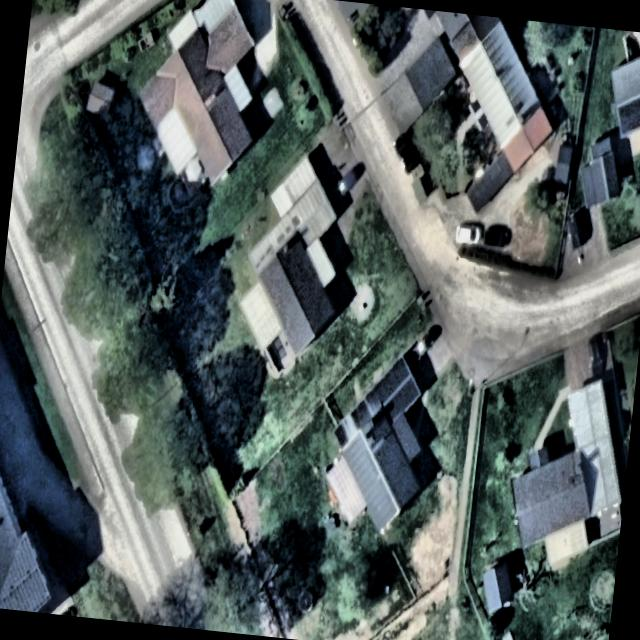roof_pv: (350, 470, 400, 531), (338, 432, 382, 484)
